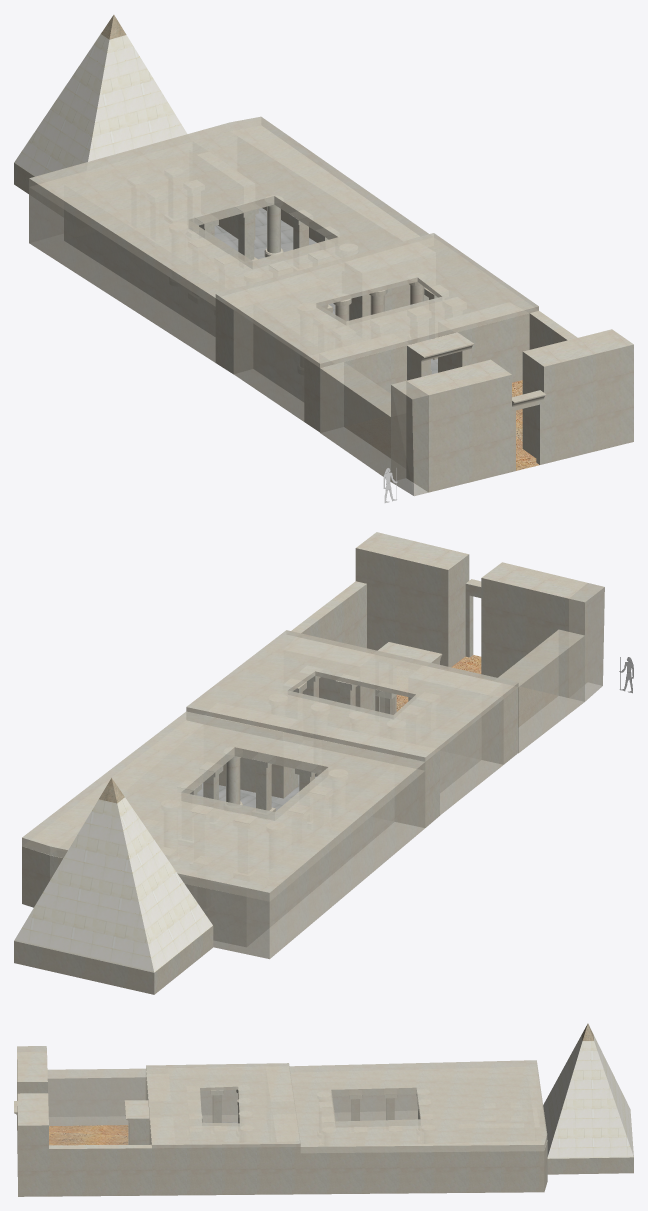
Rendered from Huynefer_Nebnefer_ST217.obj.
3 renders of one model, top to bottom at view 1: azimuth 30°, elevation 25°; view 2: azimuth 150°, elevation 25°; view 3: azimuth 270°, elevation 25°, orthographic. The views are drawn at different scales.
Parts seen in each view (by area): view 1: Mesh27 G_217_1 Model, Mesh28 G_217_1 Model, Mesh16 Square_Column_2_11 G_217_1 Model, Mesh7 Round_Column_1_3 G_217_1 Model; view 2: Mesh27 G_217_1 Model, Mesh28 G_217_1 Model, Mesh19 Square_Column_2_12 G_217_1 Model, Mesh9 Round_Column_1_4 G_217_1 Model; view 3: Mesh27 G_217_1 Model, Mesh28 G_217_1 Model, Mesh1 Square_Column_2_1 G_217_1 Model, Mesh24 Square_Column_2_17 G_217_1 Model, Mesh6 Square_Column_2_4 G_217_1 Model.
Boxes of the visible parts, x1,y1,x2,y2 form: Mesh27 G_217_1 Model: (29,116,633,496); Mesh28 G_217_1 Model: (14,15,187,193); Mesh16 Square_Column_2_11 G_217_1 Model: (234,202,258,260); Mesh7 Round_Column_1_3 G_217_1 Model: (264,195,283,257); Mesh27 G_217_1 Model: (22,532,604,959); Mesh28 G_217_1 Model: (14,778,213,994); Mesh19 Square_Column_2_12 G_217_1 Model: (251,753,275,811); Mesh9 Round_Column_1_4 G_217_1 Model: (224,747,242,805); Mesh27 G_217_1 Model: (14,1046,547,1196); Mesh28 G_217_1 Model: (543,1023,633,1174); Mesh1 Square_Column_2_1 G_217_1 Model: (210,1085,223,1122); Mesh24 Square_Column_2_17 G_217_1 Model: (384,1089,397,1120); Mesh6 Square_Column_2_4 G_217_1 Model: (349,1090,362,1120).
Size of the model in its own units: 12.15 by 8.05 by 35.52.
8 materials, 7 textured.
